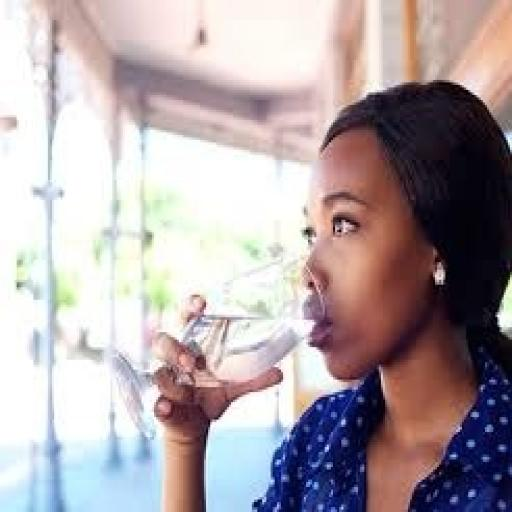drinking: (155, 64, 492, 512)
